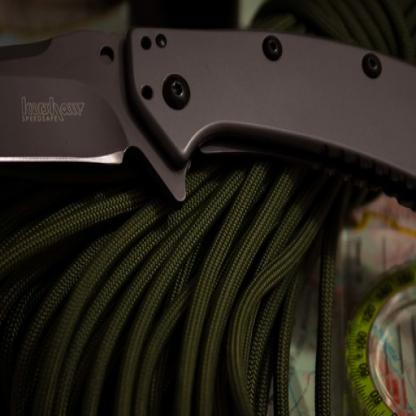knife: (0, 20, 415, 380)
